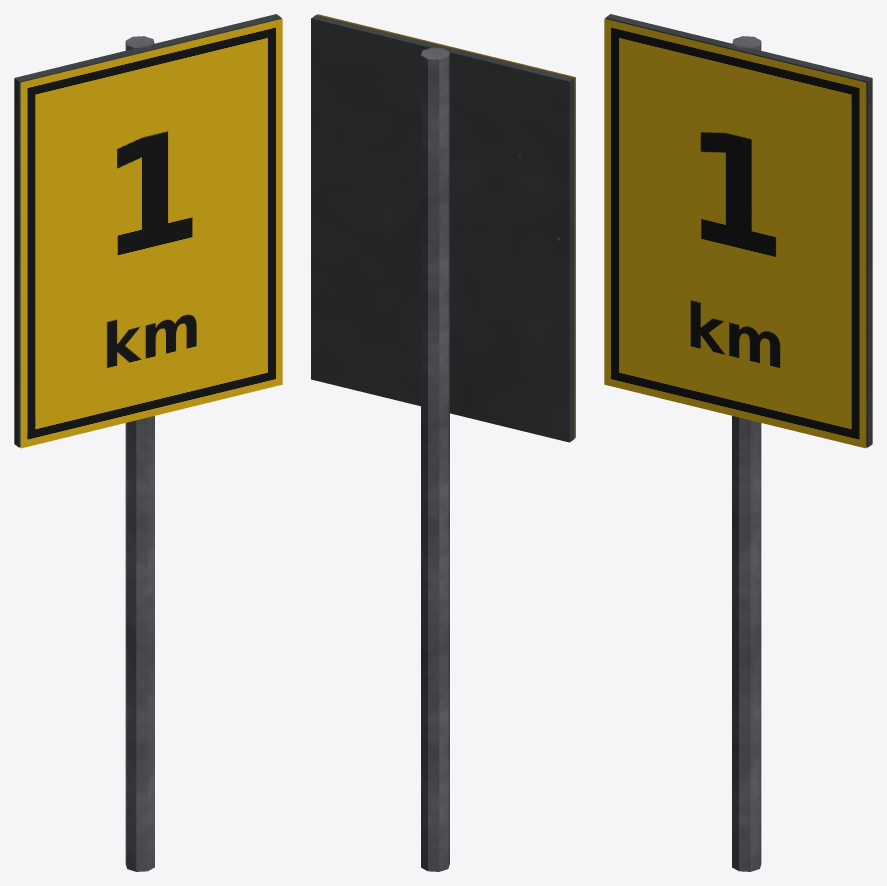
The model's file is km_marker.glb.
The picture shows the model from 3 angles, left to right: view 1: azimuth 30°, elevation 25°; view 2: azimuth 150°, elevation 25°; view 3: azimuth 330°, elevation 25°; orthographic projection.
Visible parts, largest first — view 1: km_marker; view 2: km_marker; view 3: km_marker.
Boxes of the visible parts, x1,y1,x2,y2 form: km_marker: [14, 14, 282, 871]; km_marker: [311, 14, 575, 871]; km_marker: [604, 14, 872, 871].
Size of the model in its own units: 0.6 by 1.8 by 0.075.
Materials: 3 (3 with a texture image).
